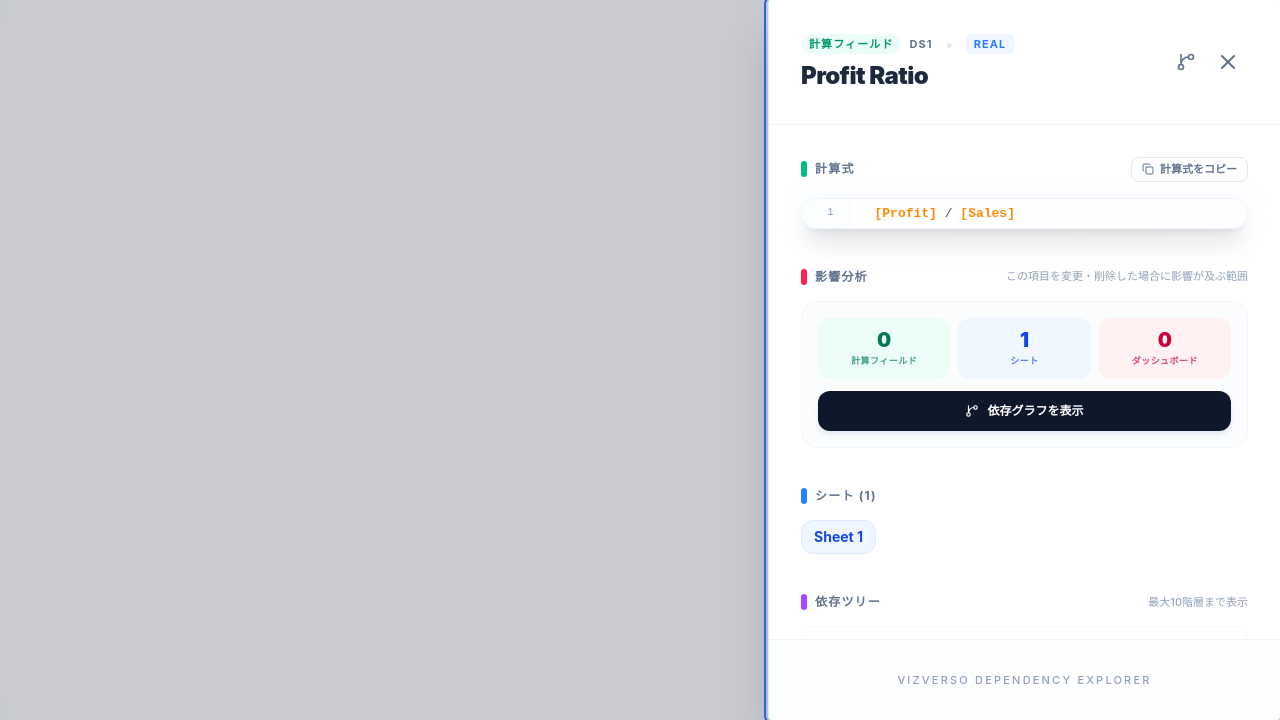
Scenario: SideDrawer - 未使用バッジと計算式コピー › コピー後にフィードバック（コピーしました）が表示されること
What coordinates should you click on to do the following:
click the button with test id "copy-formula-button"
I would click on:
 (1190, 169)
Its box is left=1131, top=157, right=1248, bottom=182.
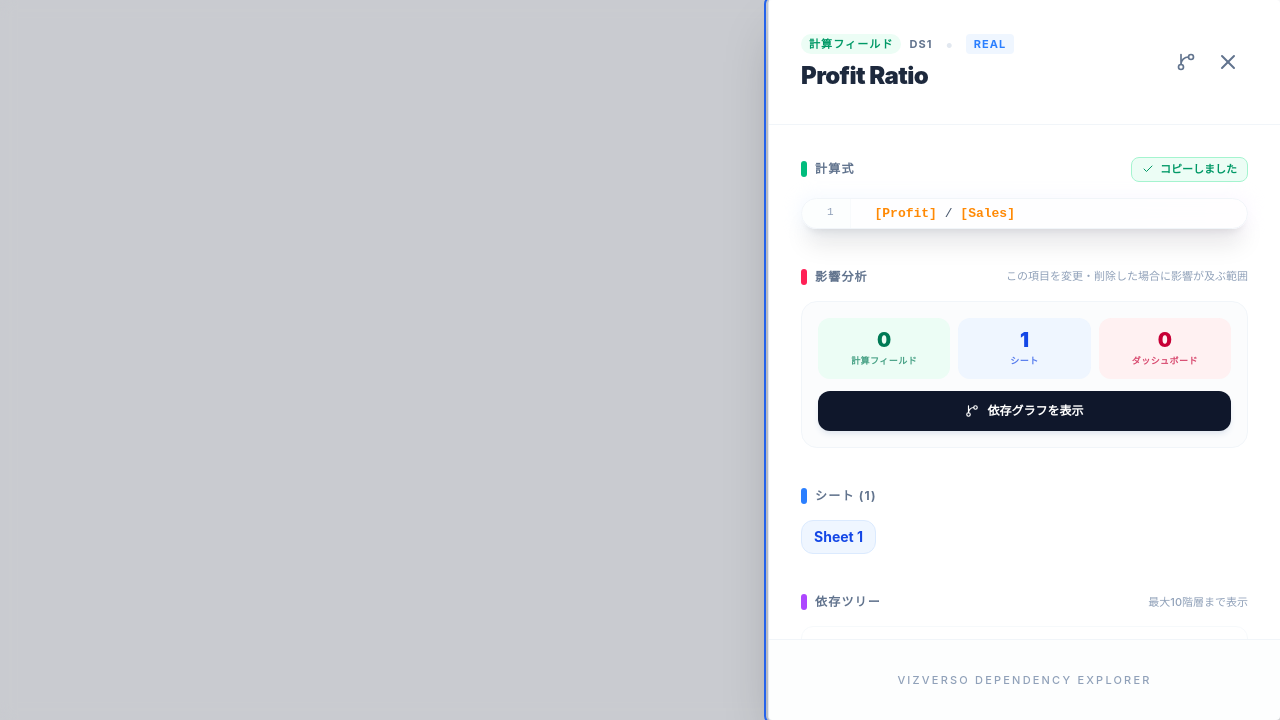
Check: the button "コピーしました" is shown, box left=1131, top=157, right=1248, bottom=182
